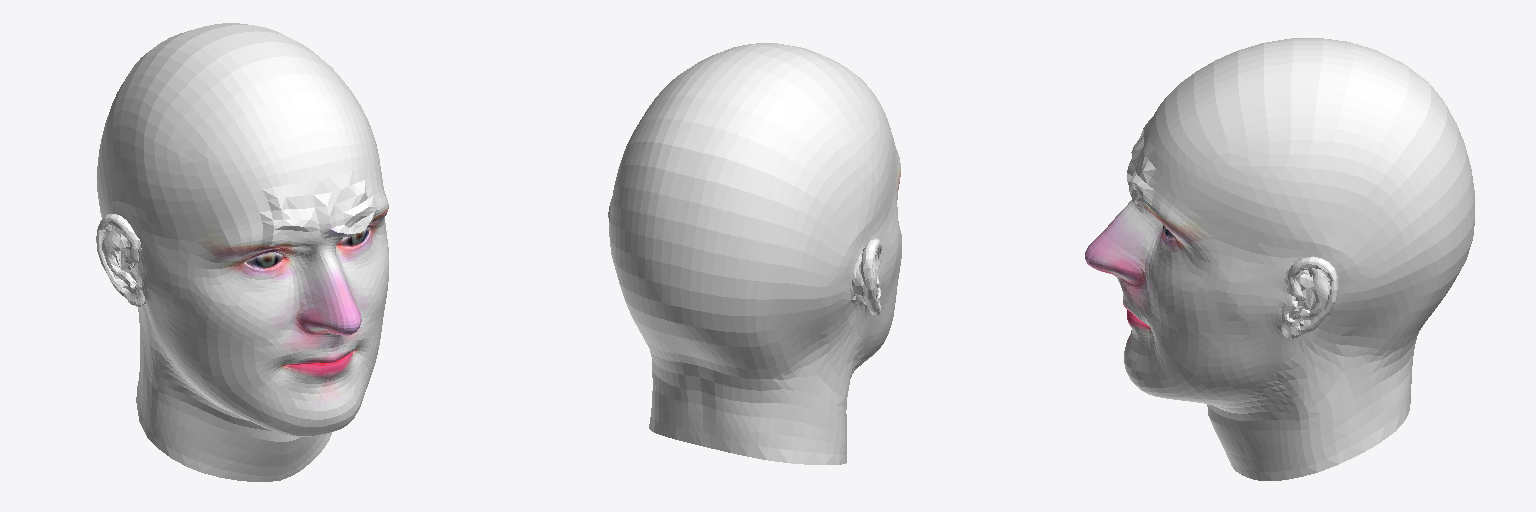
3 views of the same model, side by side, from view 1: azimuth 30°, elevation 25°; view 2: azimuth 150°, elevation 25°; view 3: azimuth 270°, elevation 25° (orthographic).
Parts seen in each view (by area): view 1: HeadHires; view 2: HeadHires; view 3: HeadHires.
Boxes of the visible parts, box(x1,y1,x2,y2) form: HeadHires: box(96, 23, 388, 481); HeadHires: box(608, 43, 901, 464); HeadHires: box(1085, 38, 1474, 480).
Bounding box in the file's own units: 190 × 283 × 243.
Materials: 1 (1 with a texture image).